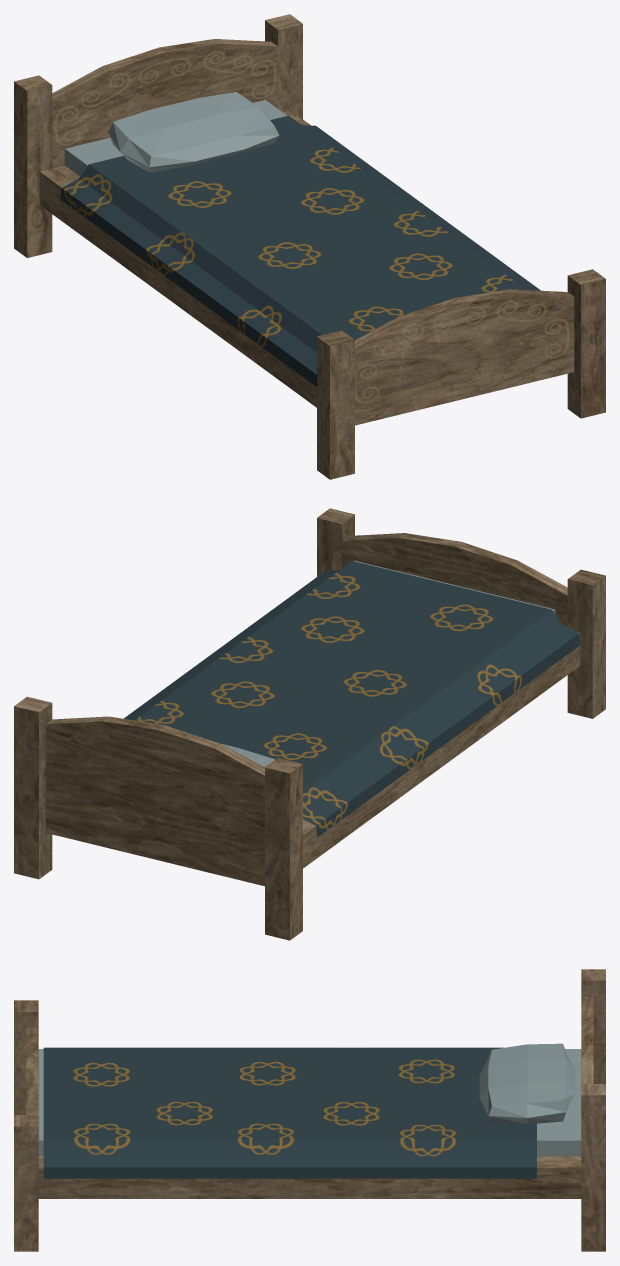
Rendered from bed.glb.
The picture shows the model from 3 angles, top to bottom: view 1: azimuth 30°, elevation 25°; view 2: azimuth 150°, elevation 25°; view 3: azimuth 270°, elevation 25°; orthographic projection. The views are drawn at different scales.
Visible parts, largest first — view 1: bed; view 2: bed; view 3: bed.
Part boxes in pixels (bbox=[...]): bed: bbox=[14, 14, 605, 479]; bed: bbox=[14, 508, 605, 940]; bed: bbox=[14, 969, 605, 1251].
Bounding box in the file's own units: 1.21 × 0.721 × 2.4.
1 material, 1 textured.
